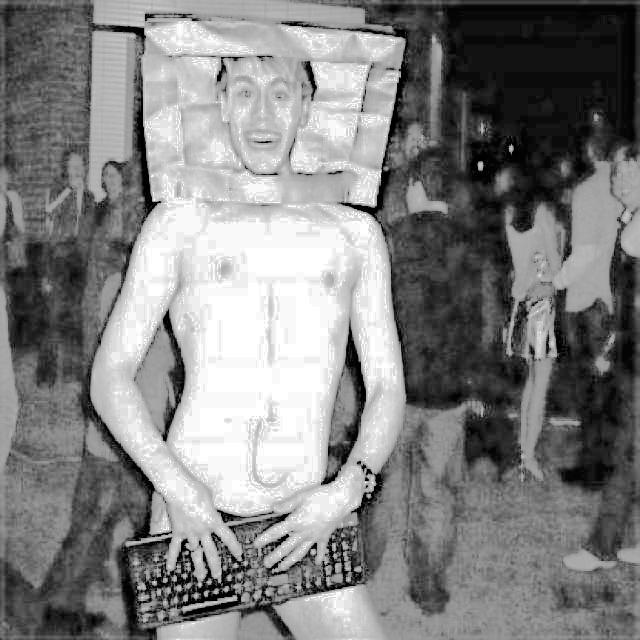Person: (89, 43, 409, 640)
